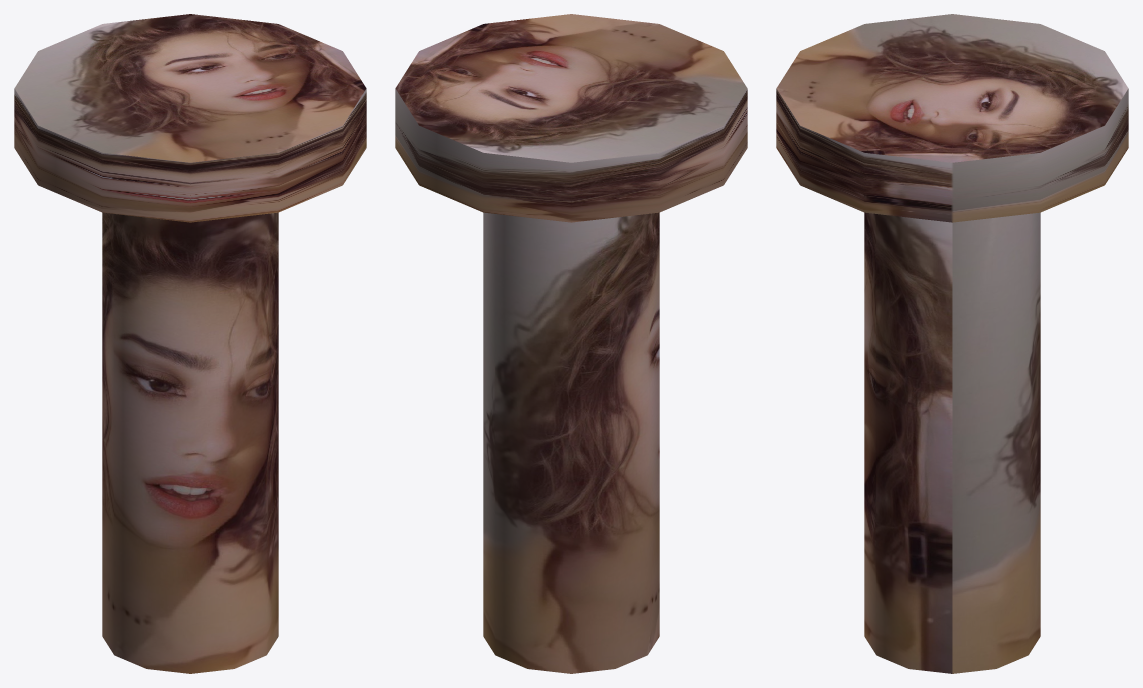
The model's file is wieza.obj.
3 views of the same model, side by side, from view 1: azimuth 30°, elevation 25°; view 2: azimuth 150°, elevation 25°; view 3: azimuth 270°, elevation 25° (orthographic).
Visible parts, largest first — view 1: Cylinder; view 2: Cylinder; view 3: Cylinder.
Part boxes in pixels (x1,y1,x2,y2): Cylinder: (14, 14, 366, 673); Cylinder: (395, 14, 747, 673); Cylinder: (776, 14, 1128, 673).
Bounding box in the file's own units: 40 × 68.75 × 40.
